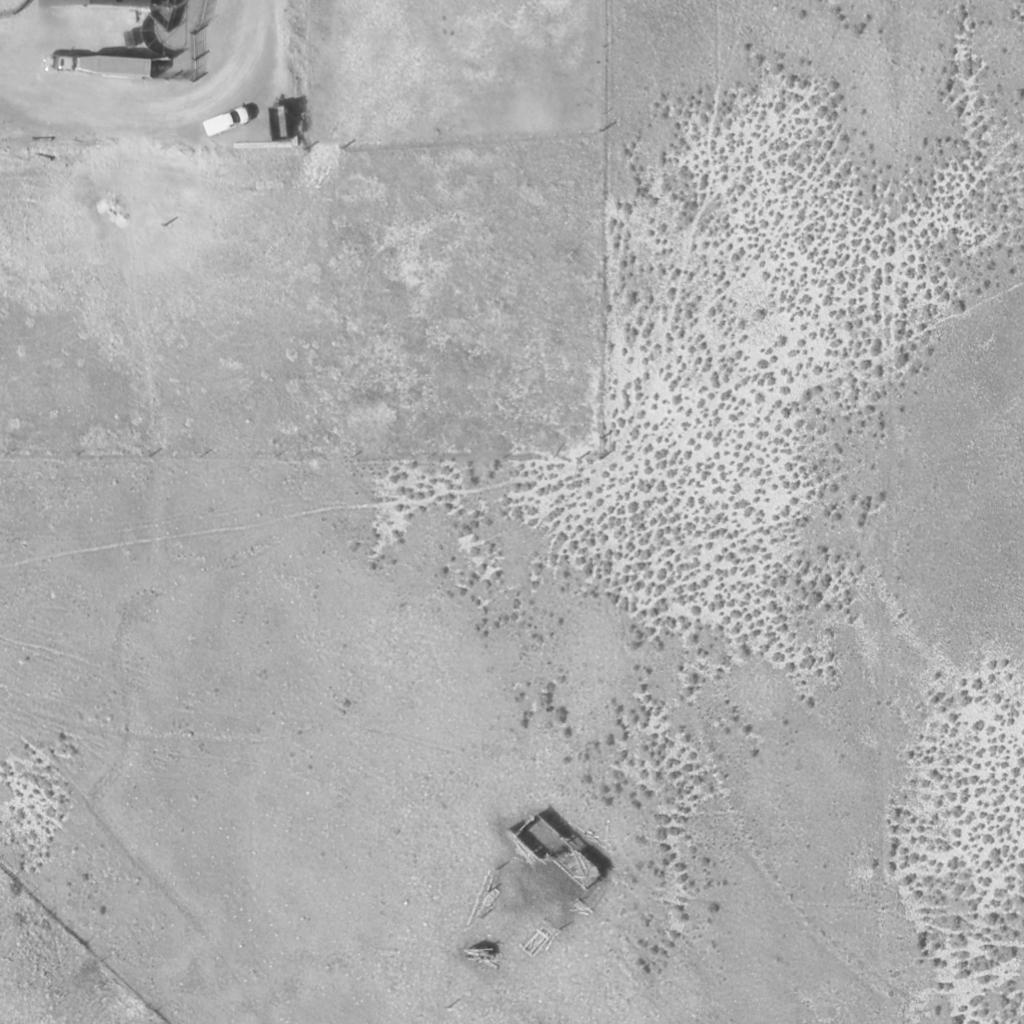vehicle: (42, 50, 156, 78), (201, 107, 251, 137)
